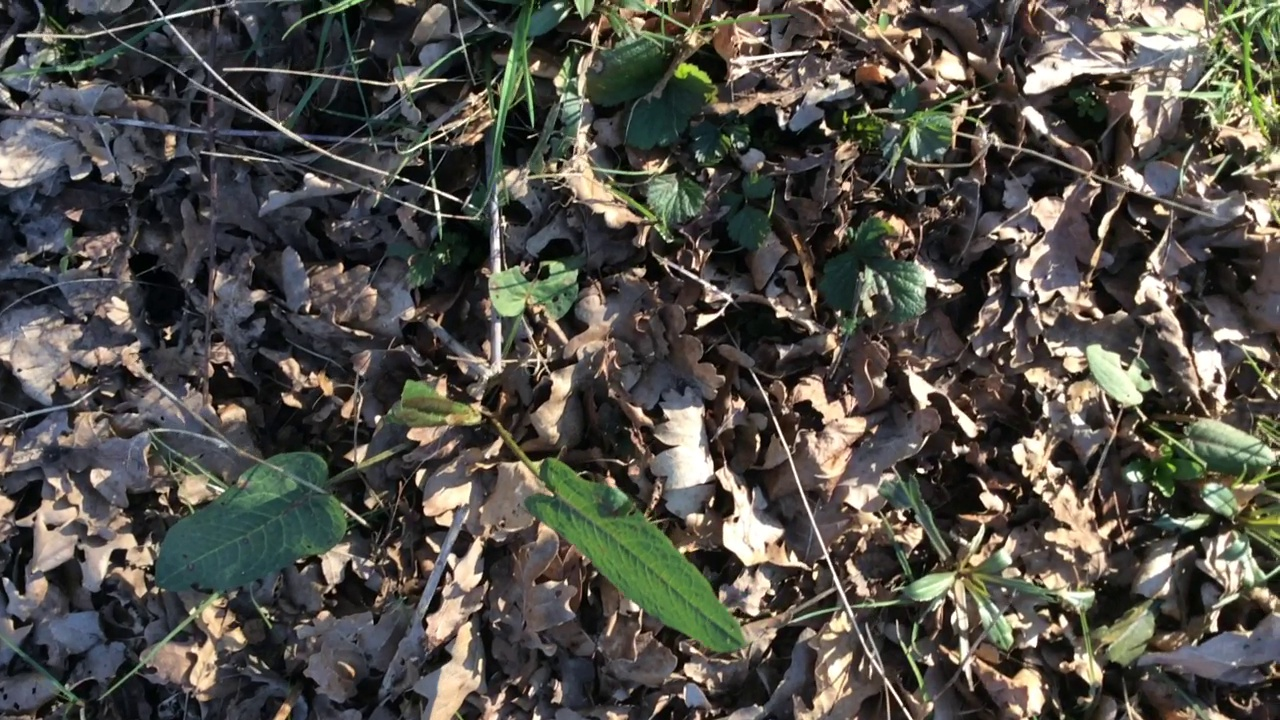rumex: (154, 256, 751, 652)
